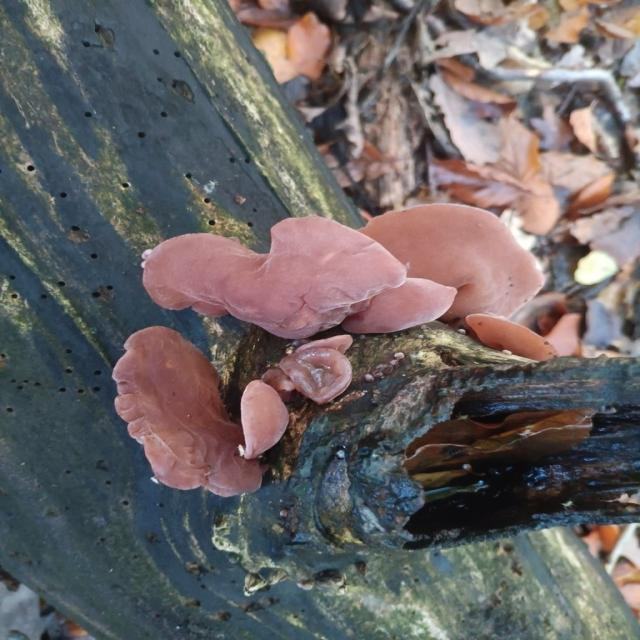Fase Muda: (264, 332, 360, 408)
Matang: (130, 216, 401, 338), (110, 318, 266, 512), (361, 198, 552, 331), (351, 271, 463, 341), (464, 304, 562, 368), (229, 368, 281, 473)
